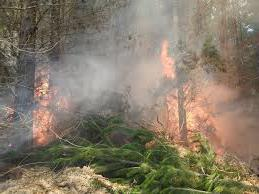fire: (155, 44, 205, 141), (28, 65, 66, 141)
